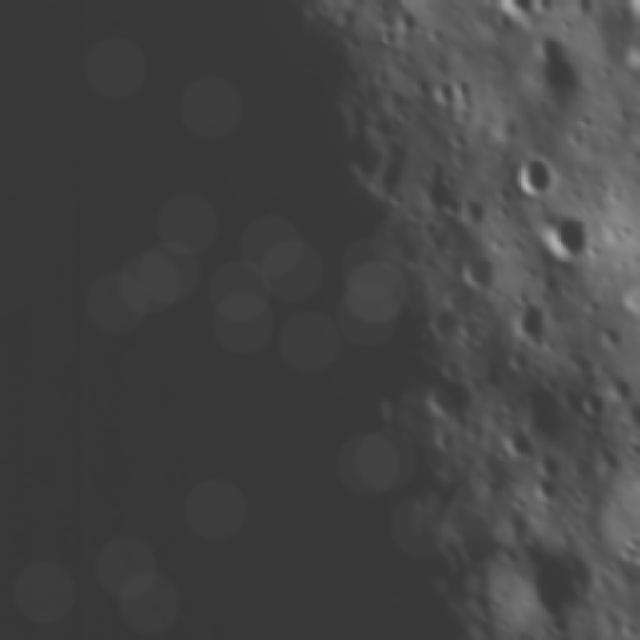crater: (515, 534, 597, 628), (524, 26, 591, 109), (544, 207, 596, 261), (422, 367, 475, 416), (511, 292, 558, 342), (512, 150, 558, 196), (450, 244, 502, 284), (426, 299, 463, 338), (502, 420, 538, 458), (576, 384, 609, 422), (432, 78, 472, 104), (393, 5, 427, 33), (528, 473, 560, 501), (535, 443, 562, 475), (378, 19, 407, 47)
